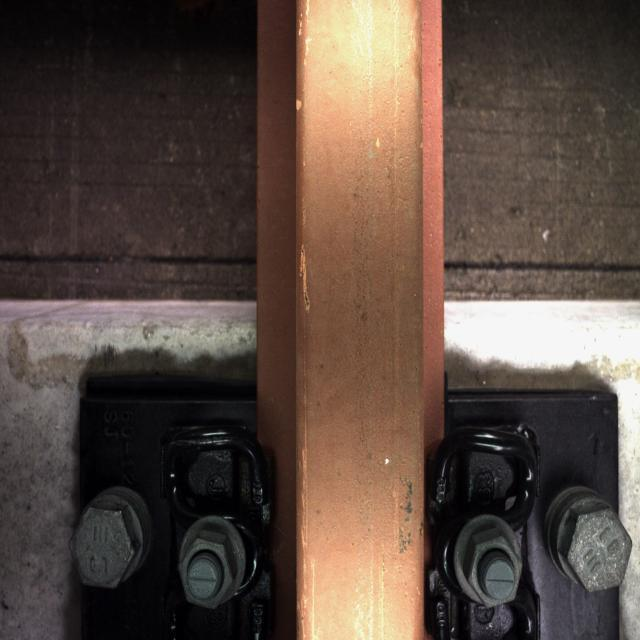break: (312, 41, 422, 600)
